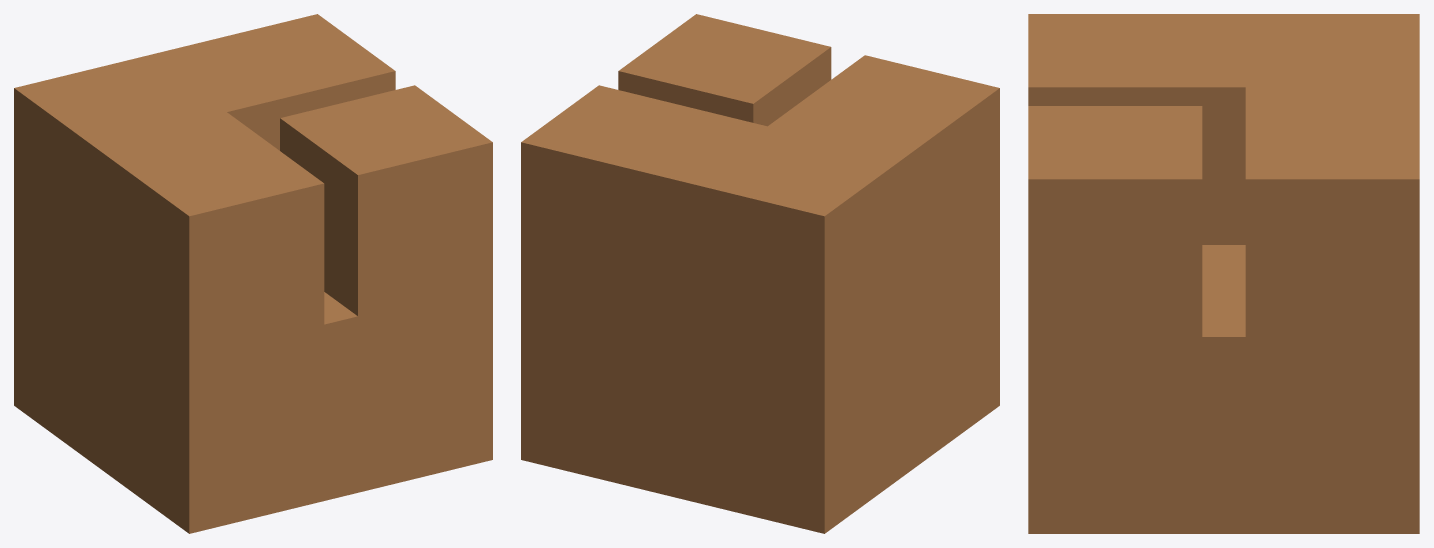
Rendered from Thin_Corner_Middle_Model.fbx.
The picture shows the model from 3 angles, left to right: view 1: azimuth 30°, elevation 25°; view 2: azimuth 150°, elevation 25°; view 3: azimuth 270°, elevation 25°; orthographic projection. The views are drawn at different scales.
Parts seen in each view (by area): view 1: Cube; view 2: Cube; view 3: Cube.
Boxes of the visible parts, bbox=[...] form: Cube: bbox=[14, 14, 492, 533]; Cube: bbox=[521, 14, 999, 533]; Cube: bbox=[1028, 14, 1419, 533].
Size of the model in its own units: 100 by 100 by 100.
